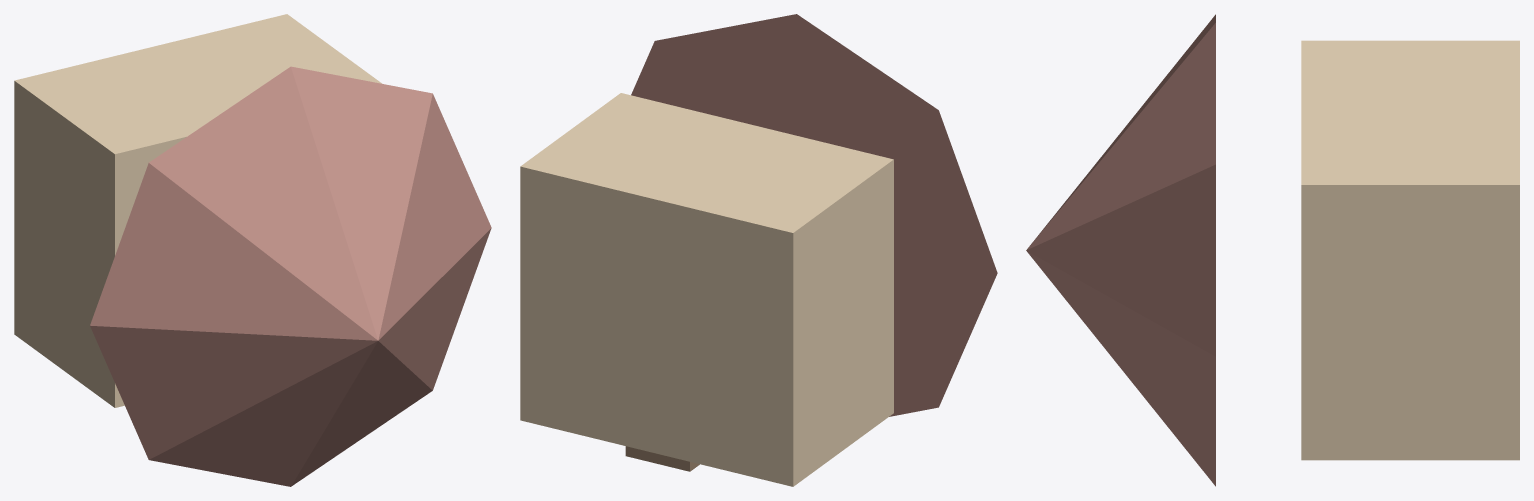
File: zaklad.glb
3 renders of one model, left to right at view 1: azimuth 30°, elevation 25°; view 2: azimuth 150°, elevation 25°; view 3: azimuth 270°, elevation 25°, orthographic. The views are drawn at different scales.
Parts seen in each view (by area): view 1: world; view 2: world; view 3: world.
Part boxes in pixels (x1,y1,x2,y2): world: [14, 14, 491, 486]; world: [520, 14, 997, 486]; world: [1026, 14, 1519, 486].
Size of the model in its own units: 5.3 by 5.3 by 5.2.
